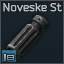MP5 Noveske-style muzzle brake & compensator: (0, 0, 64, 64)
